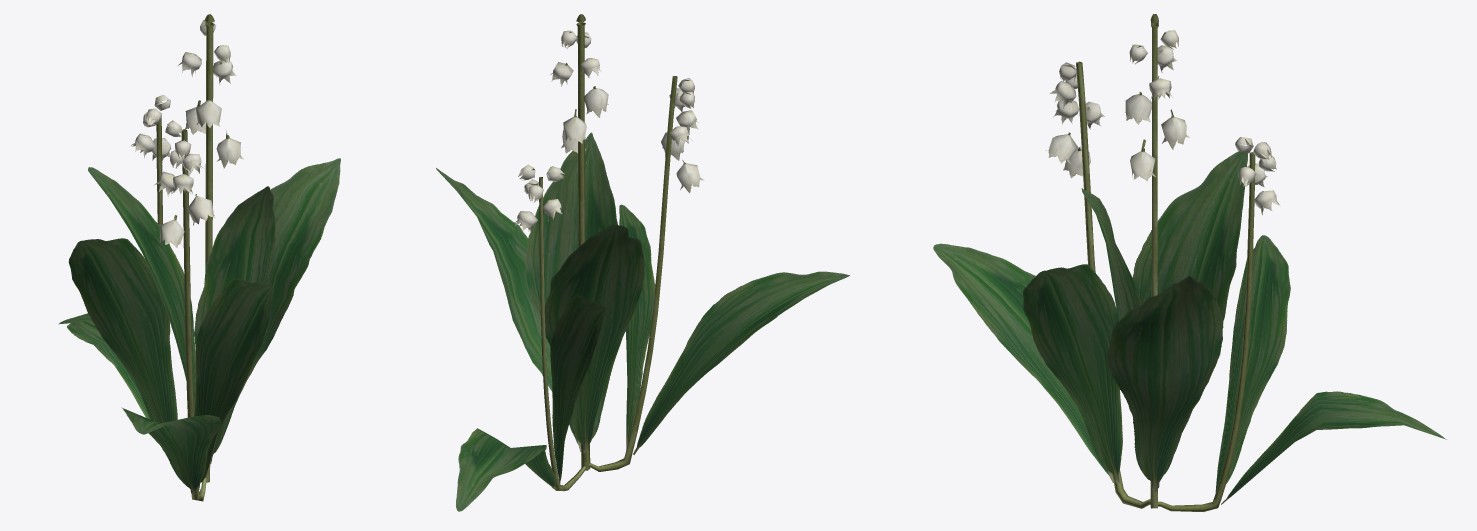
Rendered from ConvallariaMajalis.glb.
The picture shows the model from 3 angles, left to right: view 1: azimuth 30°, elevation 25°; view 2: azimuth 150°, elevation 25°; view 3: azimuth 270°, elevation 25°; orthographic projection. The views are drawn at different scales.
Visible parts, largest first — view 1: Lily_Of_The_Valley__Realistic_LOD3; view 2: Lily_Of_The_Valley__Realistic_LOD3; view 3: Lily_Of_The_Valley__Realistic_LOD3.
Boxes of the visible parts, left/top/right/bottom form: Lily_Of_The_Valley__Realistic_LOD3: left=58, top=14, right=340, bottom=501; Lily_Of_The_Valley__Realistic_LOD3: left=436, top=14, right=849, bottom=511; Lily_Of_The_Valley__Realistic_LOD3: left=933, top=14, right=1446, bottom=511.
Size of the model in its own units: 0.1949 by 0.2429 by 0.2493.
Materials: 1 (1 with a texture image).
